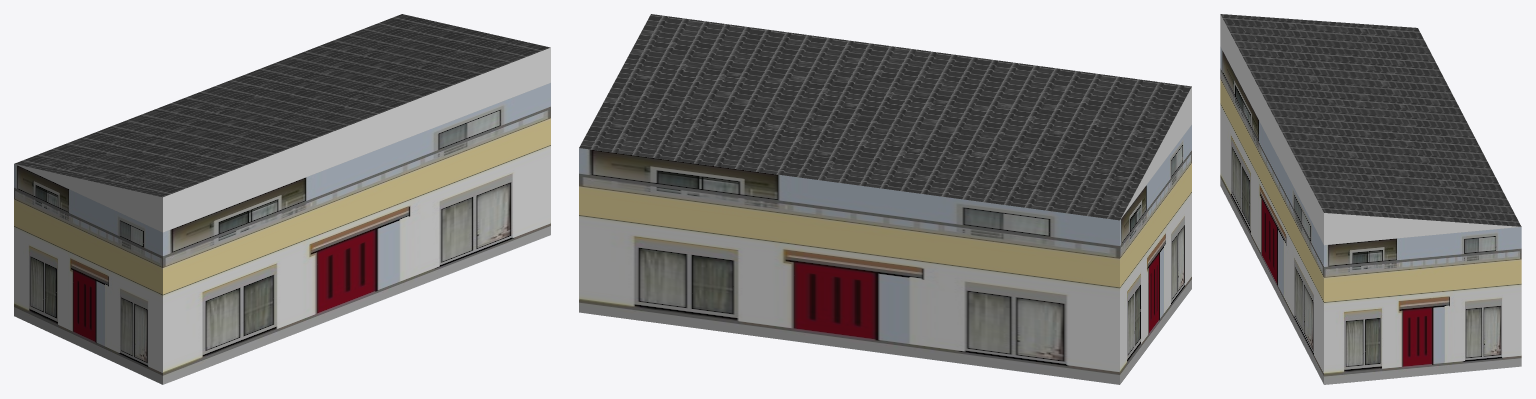
3 renders of one model, left to right at view 1: azimuth 30°, elevation 25°; view 2: azimuth 150°, elevation 25°; view 3: azimuth 270°, elevation 25°, orthographic. The views are drawn at different scales.
Visible parts, largest first — view 1: CityEngineMaterial_15_m, CityEngineMaterial_16_m, CityEngineMaterial_3_m; view 2: CityEngineMaterial_15_m, CityEngineMaterial_16_m, CityEngineMaterial_3_m; view 3: CityEngineMaterial_15_m, CityEngineMaterial_16_m, CityEngineMaterial_3_m.
Part boxes in pixels (x1,y1,x2,y2): CityEngineMaterial_15_m: [14, 83, 550, 384]; CityEngineMaterial_16_m: [14, 14, 550, 197]; CityEngineMaterial_3_m: [15, 47, 550, 232]; CityEngineMaterial_15_m: [579, 125, 1191, 384]; CityEngineMaterial_16_m: [579, 14, 1191, 220]; CityEngineMaterial_3_m: [1121, 87, 1191, 218]; CityEngineMaterial_15_m: [1220, 46, 1521, 384]; CityEngineMaterial_16_m: [1220, 14, 1521, 226]; CityEngineMaterial_3_m: [1220, 14, 1520, 245].
Size of the model in its own units: 27.94 by 10.32 by 16.36.
